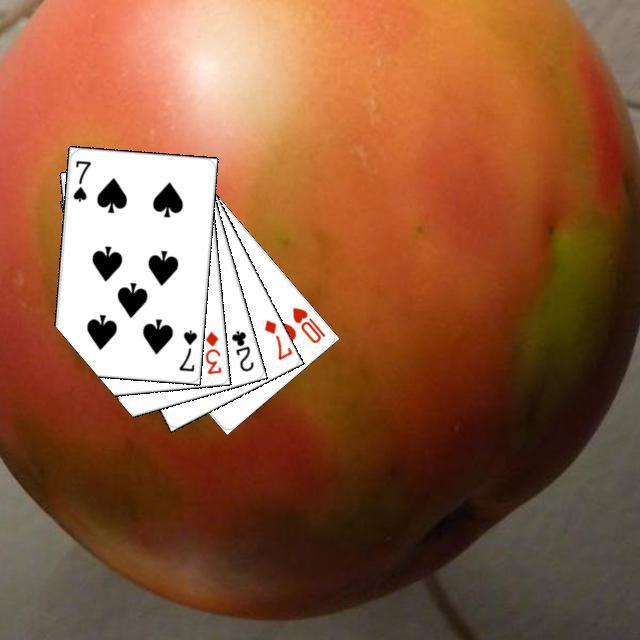10h: (287, 302, 327, 345)
2c: (226, 325, 256, 373)
3d: (200, 327, 223, 376)
7d: (259, 315, 293, 362)
7s: (174, 325, 199, 373), (68, 156, 93, 204)
